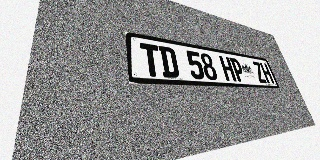5: (186, 50, 206, 80)
8: (199, 52, 218, 80)
D: (158, 46, 180, 78)
H: (219, 56, 237, 81), (259, 62, 274, 84)
P: (229, 57, 246, 82)
T: (140, 43, 162, 77)
Z: (252, 61, 267, 83)
